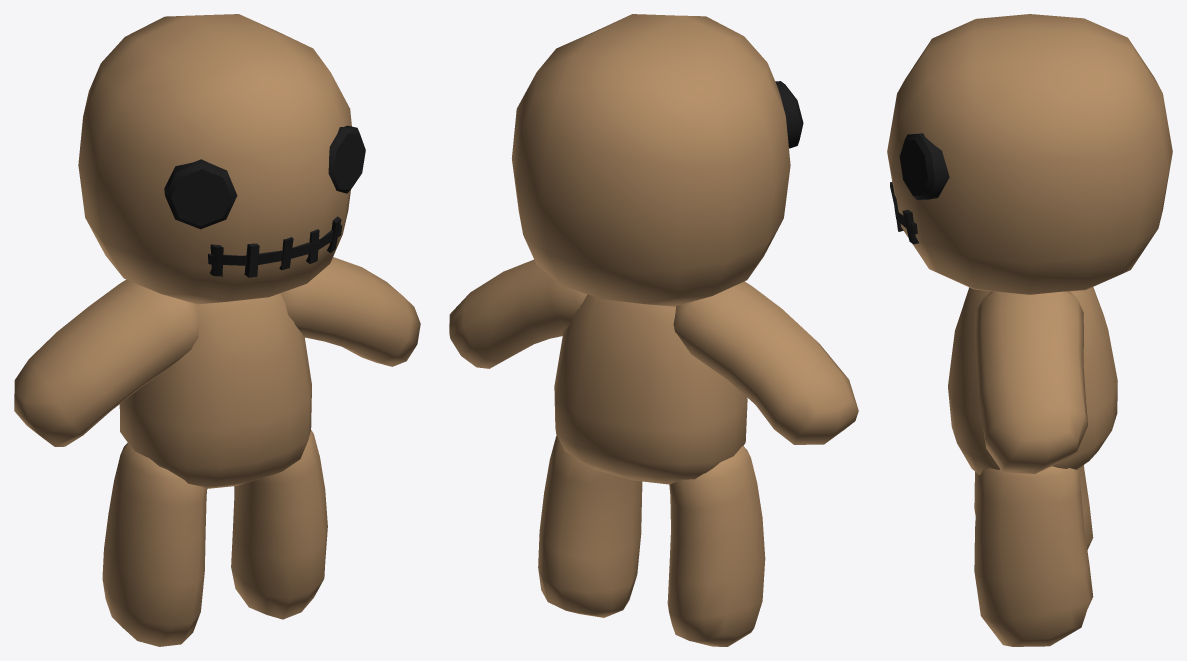
The model's file is WoodoDoll_01.fbx.
3 renders of one model, left to right at view 1: azimuth 30°, elevation 25°; view 2: azimuth 150°, elevation 25°; view 3: azimuth 270°, elevation 25°, orthographic.
Visible parts, largest first — view 1: WoodoDoll_01; view 2: WoodoDoll_01; view 3: WoodoDoll_01.
Boxes of the visible parts, bbox=[...] form: WoodoDoll_01: bbox=[14, 14, 420, 646]; WoodoDoll_01: bbox=[449, 14, 858, 646]; WoodoDoll_01: bbox=[887, 14, 1172, 646].
Size of the model in its own units: 0.2306 by 0.3306 by 0.1467.
